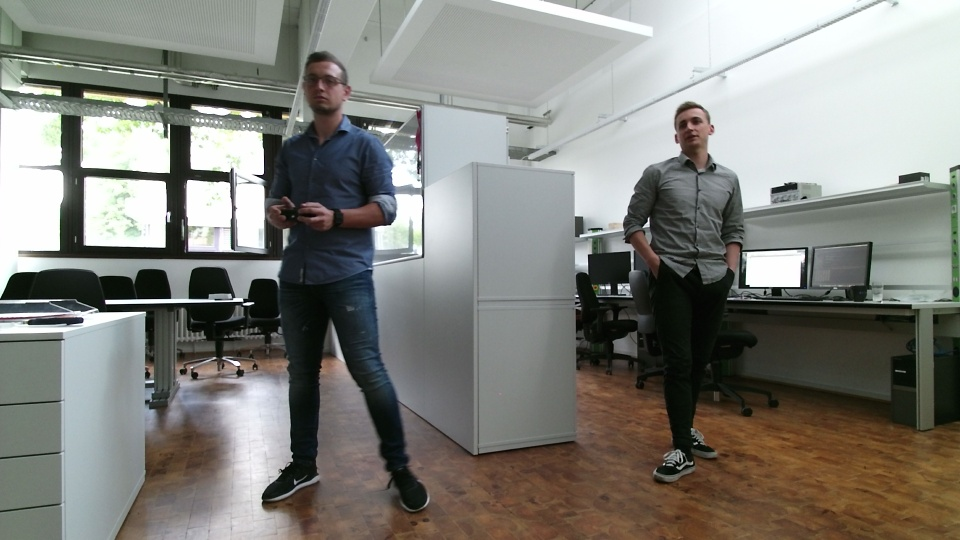Person: (257, 45, 434, 515), (616, 96, 750, 491)
